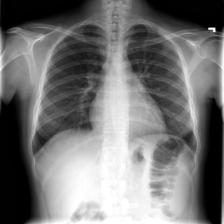normal: (29, 18, 201, 173)
